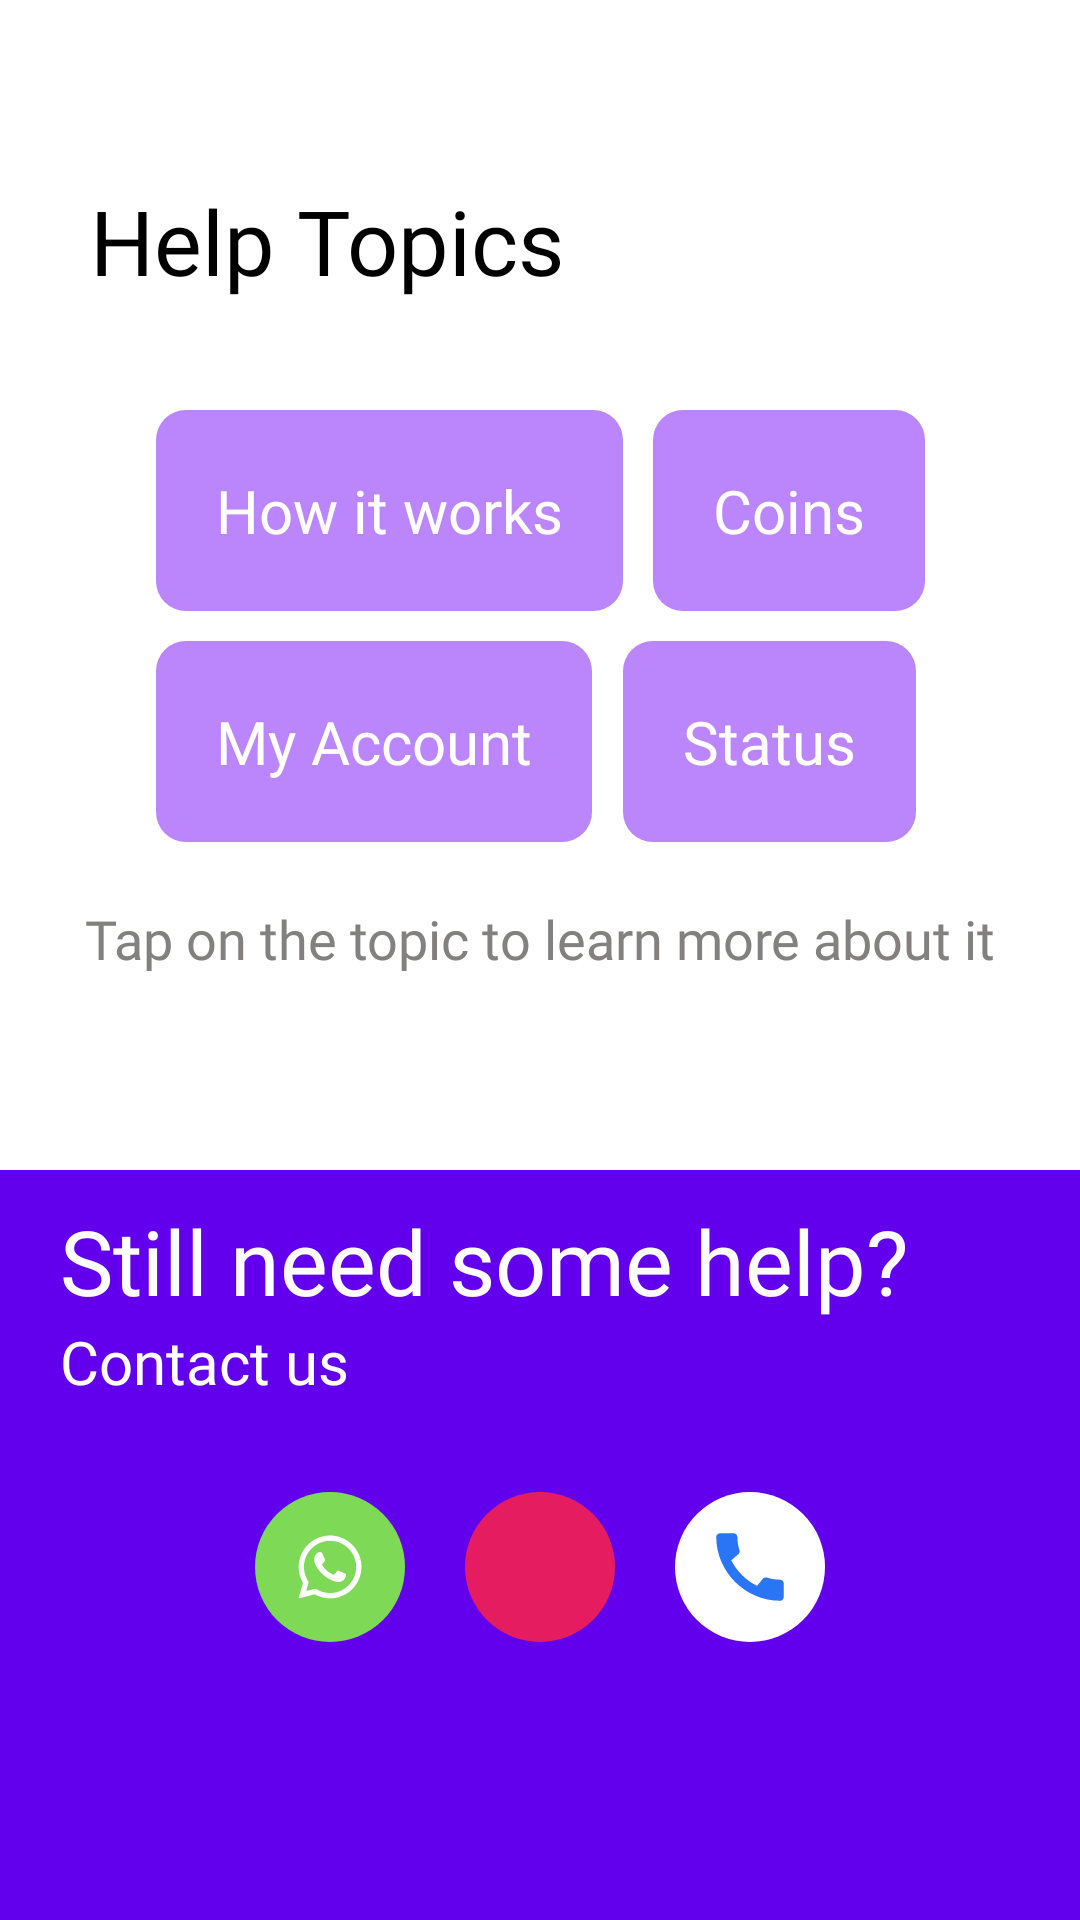

Named icons in this screenshot (1080 x 1920) and their bounding boxes, bbox=(x1, y1, x2, y2):
call: bbox=(675, 1492, 825, 1642)
